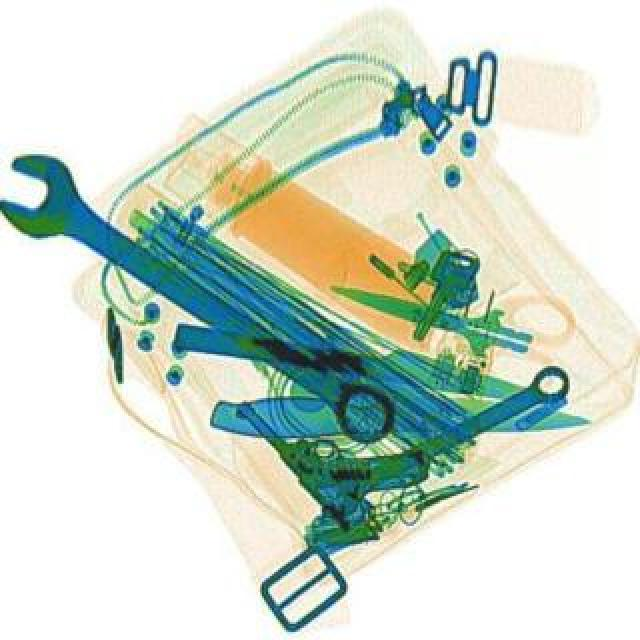gun: (230, 342, 434, 536)
knife: (170, 308, 564, 412), (322, 264, 538, 366), (206, 388, 590, 444)
scissors: (0, 154, 408, 452), (302, 358, 576, 520)
